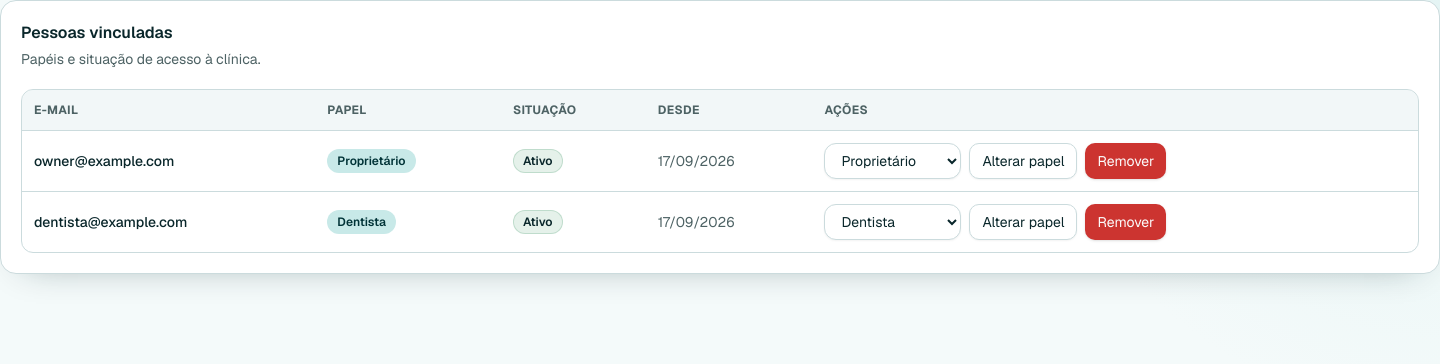
MembersTable › shows the last-owner conflict on 409
Click the button with aria-label "Remover owner@example.com".
click(1126, 161)  # box [1086, 143, 1166, 179]
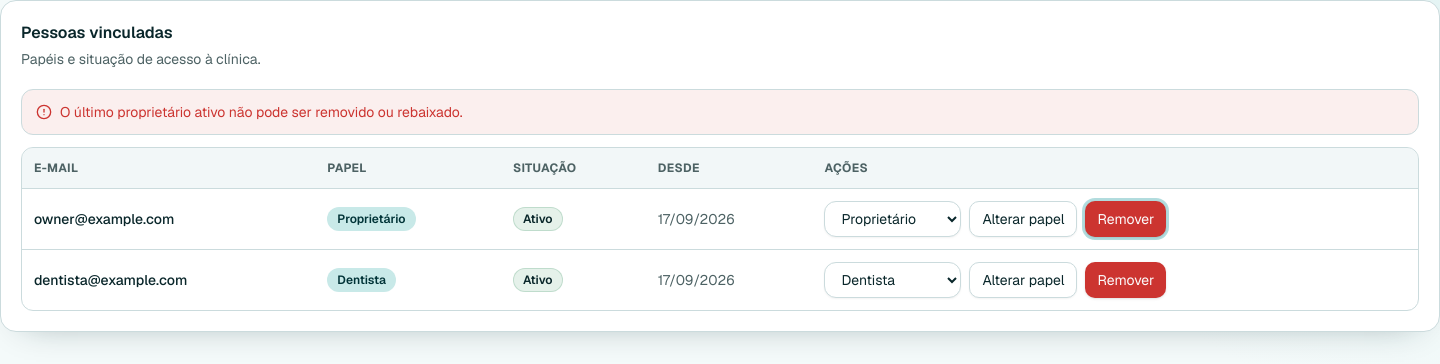
Check: the message reads "O último proprietário ativo não pode ser removido ou rebaixado.", box [60, 103, 463, 121]
